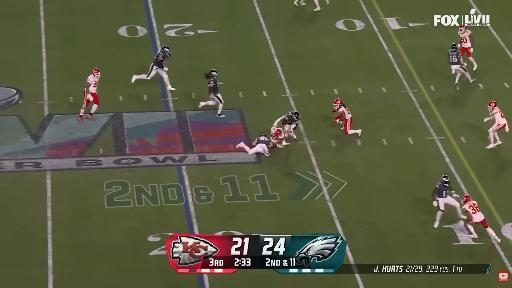Helmet: (461, 194, 471, 204), (292, 110, 301, 121), (210, 70, 220, 79), (92, 68, 100, 78), (334, 99, 342, 109), (488, 101, 497, 109), (161, 45, 170, 53), (274, 128, 283, 136), (459, 24, 466, 34), (450, 42, 457, 52), (442, 175, 449, 184), (260, 134, 267, 137)
Jersey: (463, 201, 484, 222), (436, 182, 451, 198), (154, 52, 168, 69), (492, 107, 506, 124), (337, 104, 351, 119), (87, 75, 98, 93), (460, 31, 471, 47), (448, 51, 460, 65), (208, 78, 218, 94), (271, 128, 284, 140), (257, 136, 270, 146), (282, 118, 295, 125)
Player: (132, 46, 175, 90), (461, 195, 500, 243), (432, 175, 466, 227), (448, 43, 475, 87), (199, 70, 224, 117), (78, 69, 100, 122), (484, 101, 508, 148), (332, 99, 361, 135), (236, 134, 275, 156), (459, 24, 477, 70), (273, 111, 300, 141), (271, 127, 289, 147), (294, 0, 306, 6), (314, 0, 320, 11)
